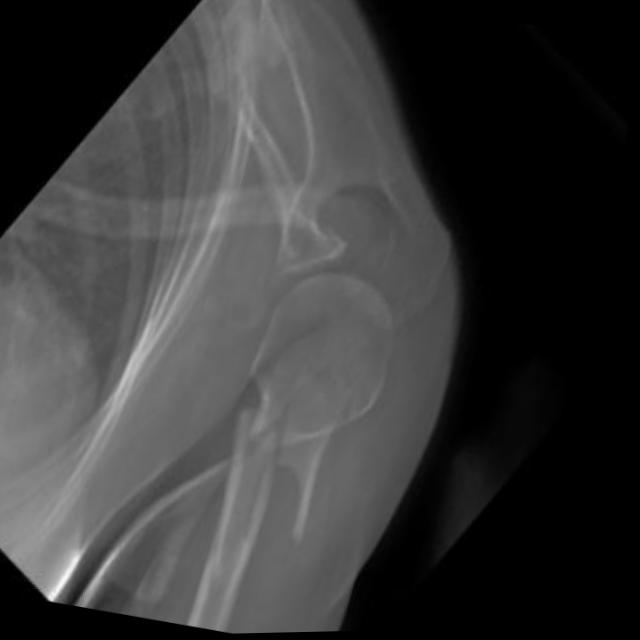fracture: (252, 449, 351, 532)
